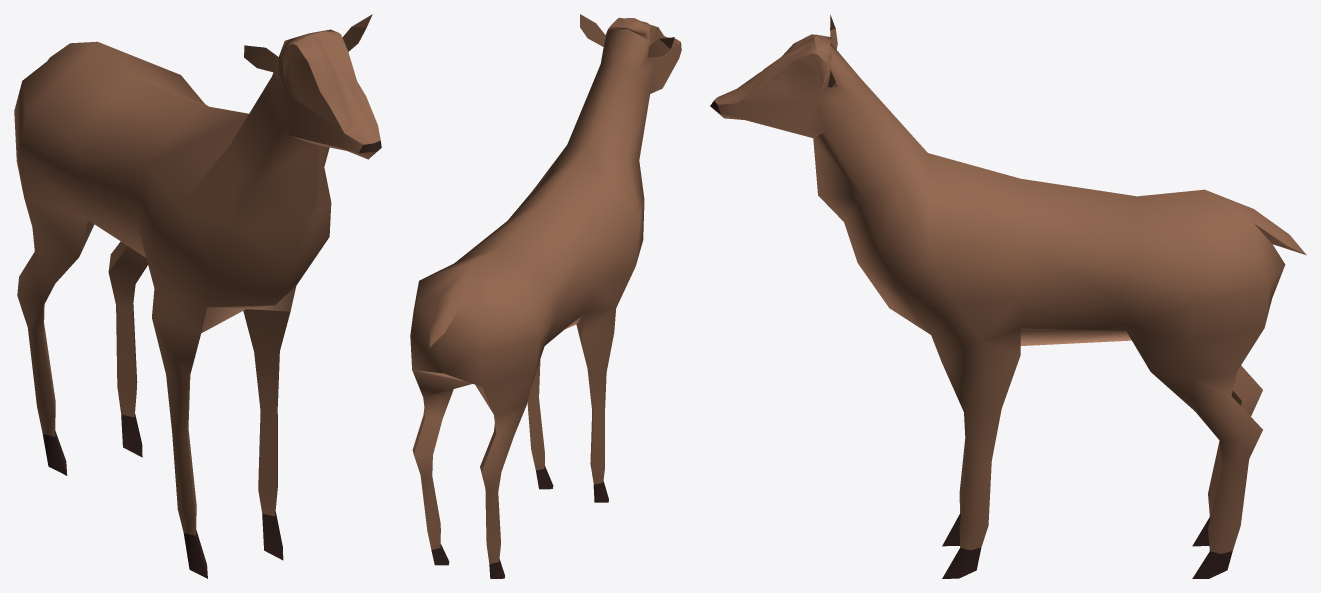
Rendered from deerv2_f.fbx.
3 views of the same model, side by side, from view 1: azimuth 30°, elevation 25°; view 2: azimuth 150°, elevation 25°; view 3: azimuth 270°, elevation 25° (orthographic). The views are drawn at different scales.
Visible parts, largest first — view 1: Deer-ver2; view 2: Deer-ver2; view 3: Deer-ver2.
Boxes of the visible parts, x1,y1,x2,y2 form: Deer-ver2: (14, 14, 381, 578); Deer-ver2: (410, 14, 681, 578); Deer-ver2: (710, 14, 1306, 578).
Size of the model in its own units: 53.01 by 175 by 181.
